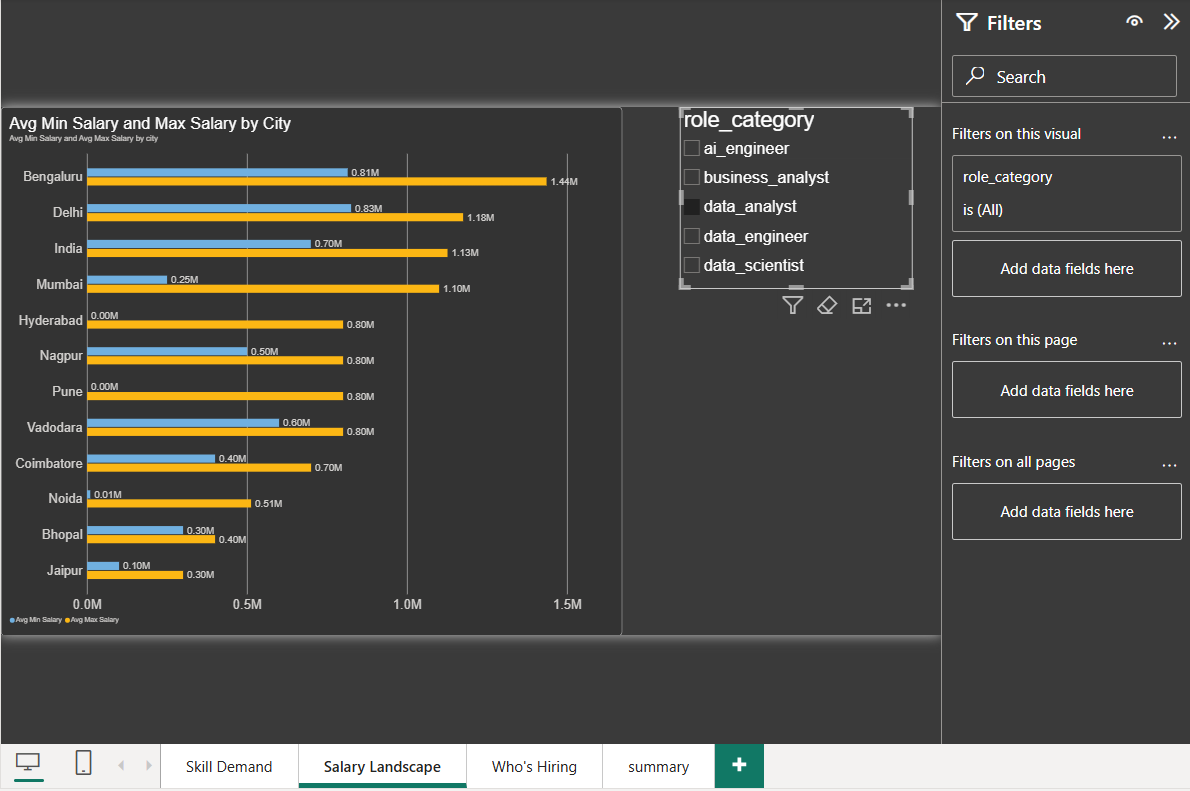

This screenshot's page, from the dashboard's own definition file:
{"tool":"powerbi","page":{"name":"Salary Landscape","canvas":[1920,1080],"ordinal":1},"visuals":[{"type":"clusteredBarChart","title":"Avg Min Salary and Max Salary by City","fields":{"Category":["postings_salary.city"],"Y":["postings_salary.Avg Min Salary","postings_salary.Avg Max Salary"]},"box":[0,0,1268.9,1080],"z":2001},{"type":"slicer","fields":{"Values":["postings_salary.role_category"]},"box":[1386.4,0,474.9,372.8],"z":2002}]}

Visuals, with their boxes on the page's 1920x1080 design canvas (x1, y1, x2, y2). These are canvas units, not pixel positions in the 1190x791 screenshot, which may show the page scaled, cropped or inside an application window:
"Avg Min Salary and Max Salary by City" clusteredBarChart: box=[0, 0, 1269, 1080]
slicer - postings_salary.role_category: box=[1386, 0, 1861, 373]
